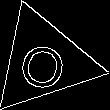O_N: (17, 32, 71, 90)
